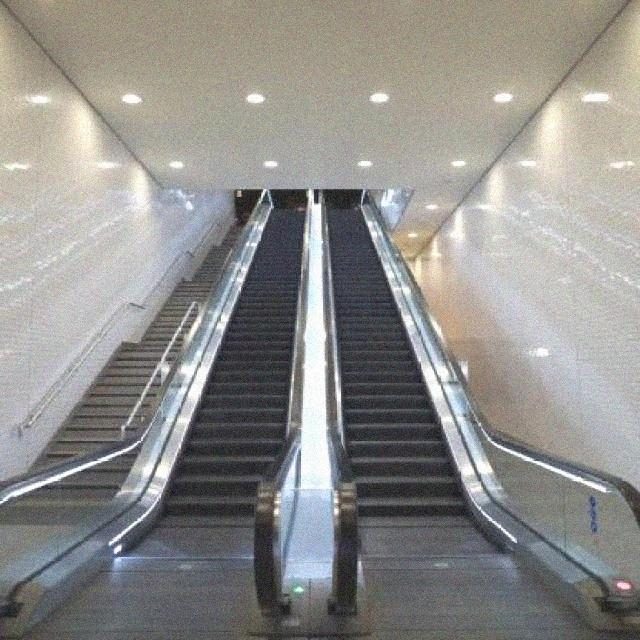stair: (0, 190, 471, 512)
